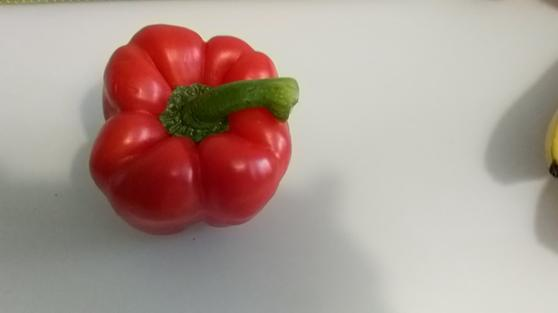pepper: (90, 22, 300, 238)
